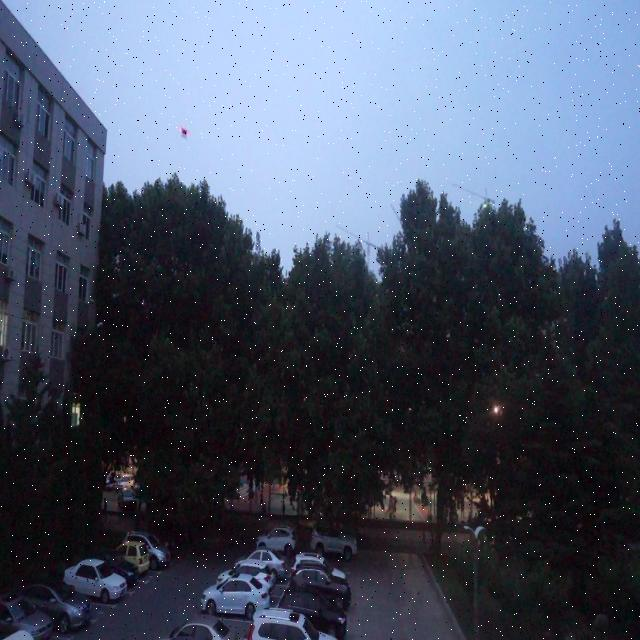UAV: (180, 125, 190, 138)
